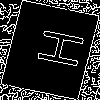H: (25, 24, 86, 70)
